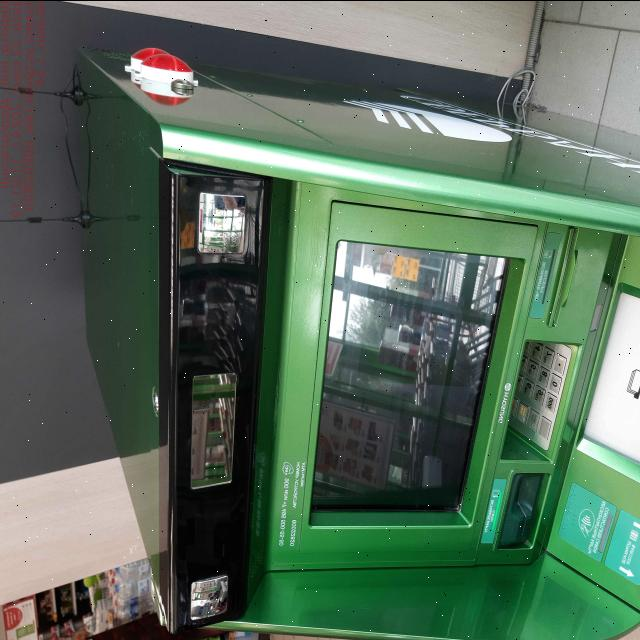bank: (74, 46, 640, 640)
